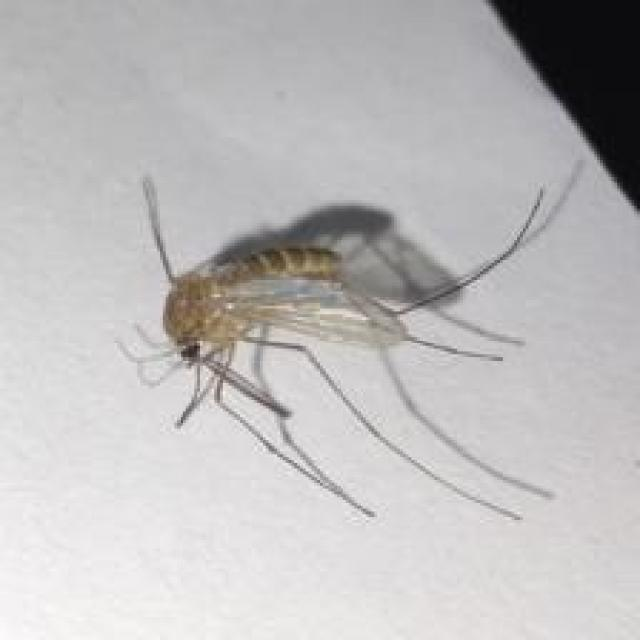Culex: (114, 157, 586, 523)
